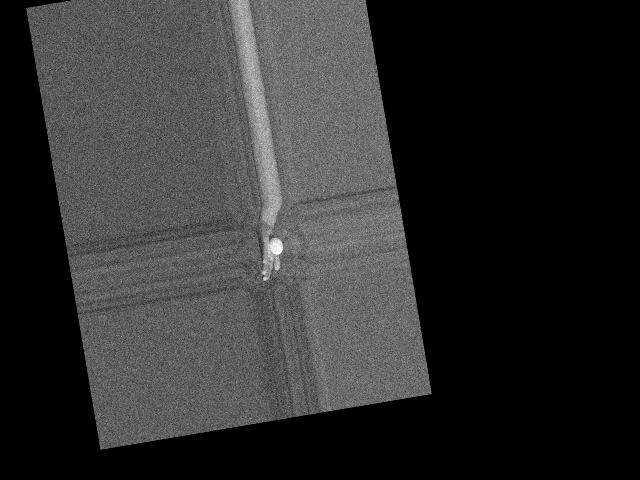egg: (268, 236, 284, 255)
